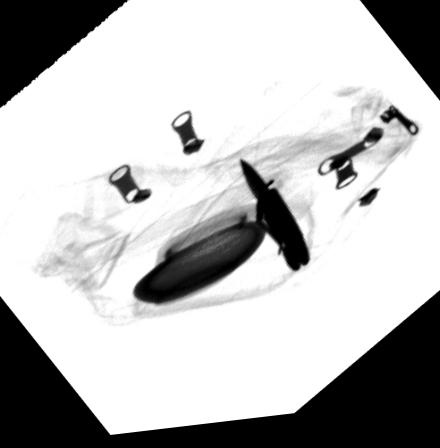Knife: (239, 162, 313, 281)
